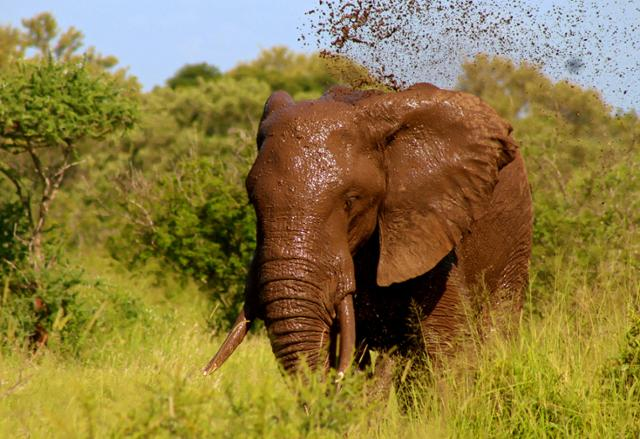Elephant: (185, 67, 545, 410)
